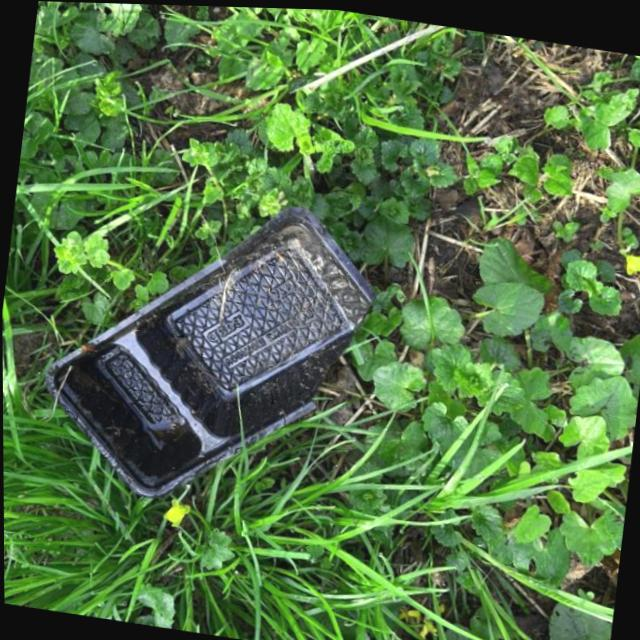Plastic: (20, 168, 400, 536)
